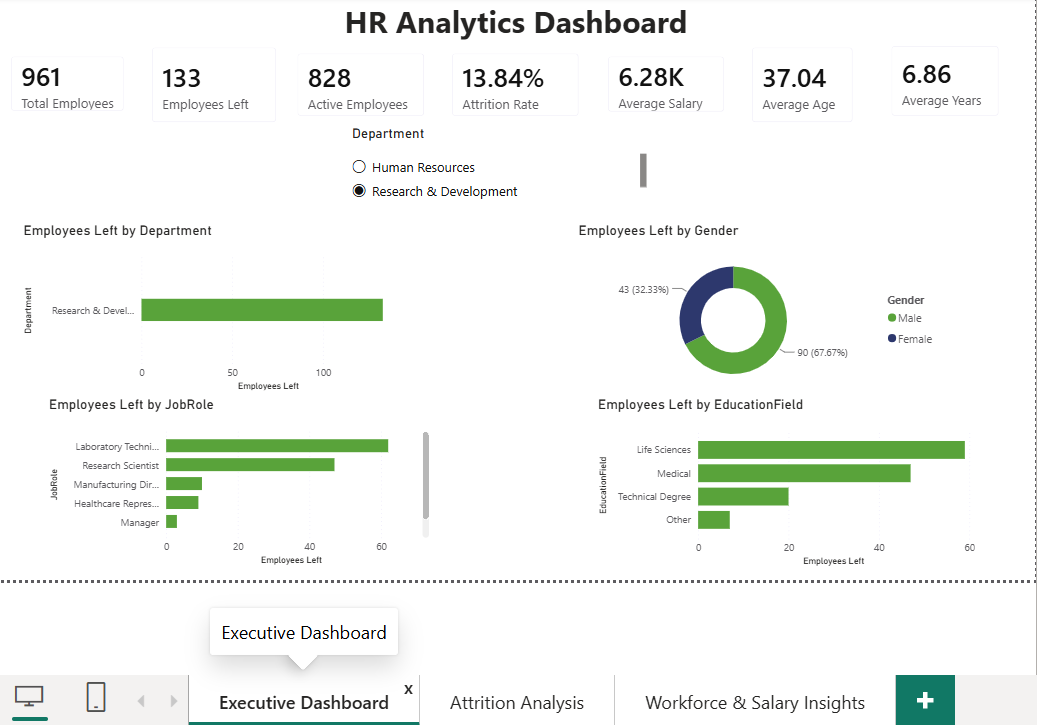

The page's visual inventory and layout, read from the dashboard file:
{"tool":"powerbi","page":{"name":"Executive Dashboard","canvas":[1280,720],"ordinal":0},"visuals":[{"type":"textbox","box":[10,0,280,280],"z":0},{"type":"textbox","box":[0,0,1279.4,120.9],"z":1},{"type":"cardVisual","fields":{"Data":["HR_Employees.Total Employees"]},"box":[0,57.3,173.8,101.7],"z":2},{"type":"cardVisual","fields":{"Data":["HR_Employees.Employees Left"]},"box":[173.8,46.2,187.1,126.6],"z":3},{"type":"cardVisual","fields":{"Data":["HR_Employees.Active Employees"]},"box":[353.1,53.6,190.9,111.5],"z":4},{"type":"cardVisual","fields":{"Data":["HR_Employees.Attrition Rate"]},"box":[543.6,53.6,190.9,111.5],"z":5},{"type":"cardVisual","fields":{"Data":["HR_Employees.Average Salary"]},"box":[735.8,57.3,177.6,102],"z":6},{"type":"cardVisual","fields":{"Data":["HR_Employees.Average Age"]},"box":[913.3,46.2,158.7,126.6],"z":7},{"type":"cardVisual","fields":{"Data":["HR_Employees.Average Years"]},"box":[1085.3,44.4,166.3,120.9],"z":8},{"type":"clusteredBarChart","fields":{"Category":["HR_Employees.Department"],"Y":["HR_Employees.Employees Left"]},"box":[27.7,279.2,478.1,211.7],"z":9},{"type":"donutChart","fields":{"Category":["HR_Employees.Gender"],"Y":["HR_Employees.Employees Left"]},"box":[711.8,279.2,456.7,210.8],"z":10},{"type":"clusteredBarChart","fields":{"Category":["HR_Employees.JobRole"],"Y":["HR_Employees.Employees Left"]},"box":[60,493.5,478,212],"z":11},{"type":"clusteredBarChart","fields":{"Category":["HR_Employees.EducationField"],"Y":["HR_Employees.Employees Left"]},"box":[735.1,493.2,474.3,213.5],"z":12},{"type":"listSlicer","fields":{"Values":["HR_Employees.Department"]},"box":[432.6,159,373.5,101.7],"z":13}]}

Visuals, with their boxes on the page's 1280x720 design canvas (x1, y1, x2, y2). These are canvas units, not pixel positions in the 1037x725 screenshot, which may show the page scaled, cropped or inside an application window:
textbox: 10,0,290,280
textbox: 0,0,1279,121
cardVisual - HR_Employees.Total Employees: 0,57,174,159
cardVisual - HR_Employees.Employees Left: 174,46,361,173
cardVisual - HR_Employees.Active Employees: 353,54,544,165
cardVisual - HR_Employees.Attrition Rate: 544,54,734,165
cardVisual - HR_Employees.Average Salary: 736,57,913,159
cardVisual - HR_Employees.Average Age: 913,46,1072,173
cardVisual - HR_Employees.Average Years: 1085,44,1252,165
clusteredBarChart - HR_Employees.Department x HR_Employees.Employees Left: 28,279,506,491
donutChart - HR_Employees.Gender x HR_Employees.Employees Left: 712,279,1168,490
clusteredBarChart - HR_Employees.JobRole x HR_Employees.Employees Left: 60,494,538,706
clusteredBarChart - HR_Employees.EducationField x HR_Employees.Employees Left: 735,493,1209,707
listSlicer - HR_Employees.Department: 433,159,806,261
